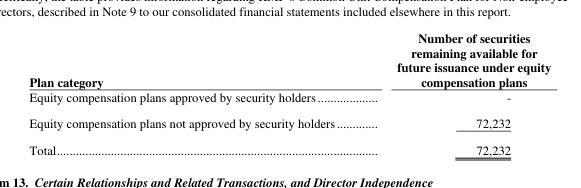table: (28, 29, 550, 157)
table column: (28, 29, 365, 157), (365, 29, 550, 157)
table row: (28, 29, 550, 88), (28, 109, 550, 135), (28, 135, 550, 157), (28, 88, 550, 109)
